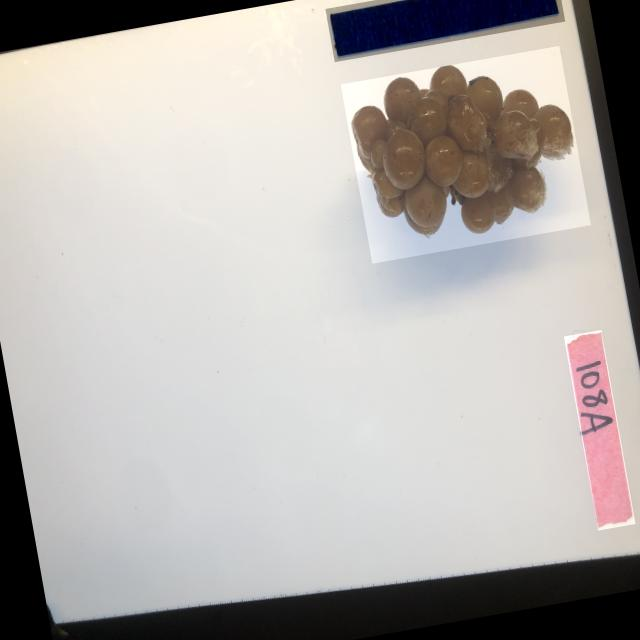grape_cluster: (340, 46, 590, 264)
index: (562, 330, 634, 530)
measure_label: (324, 0, 564, 62)
